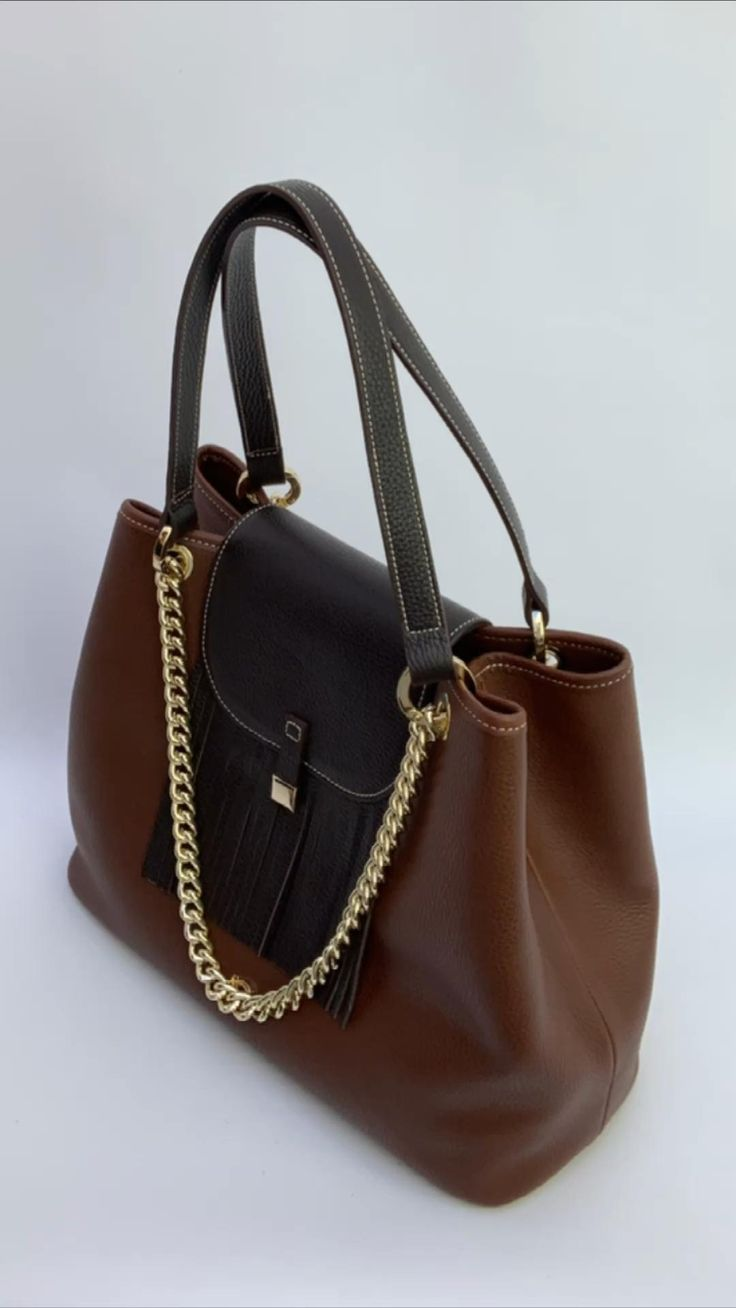cuero: (66, 180, 662, 1208)
